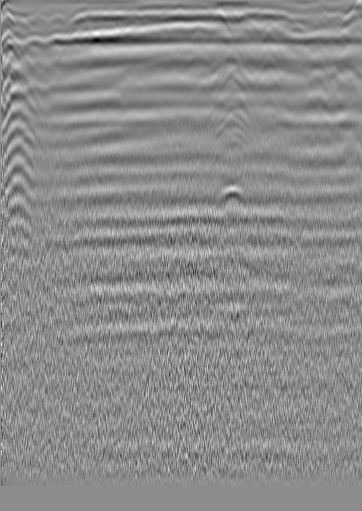가스: (216, 187, 248, 211)
상수: (314, 12, 334, 32)
오수: (24, 31, 44, 51)
우수: (177, 23, 197, 43)
